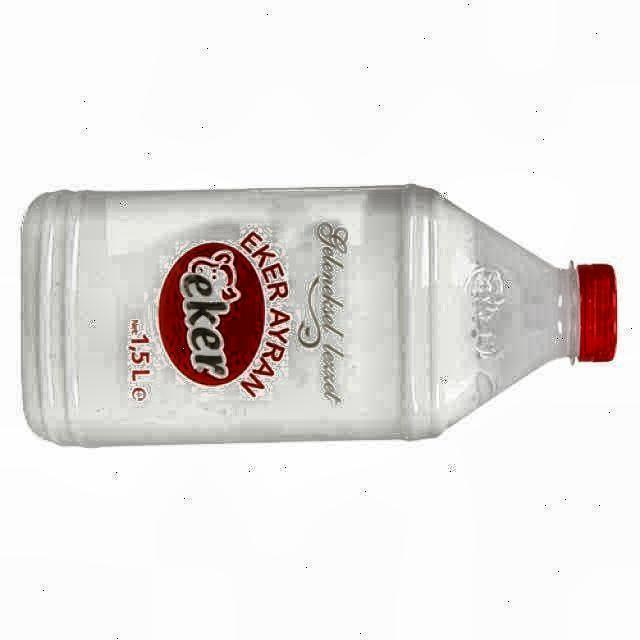plastic: (22, 186, 616, 446)
